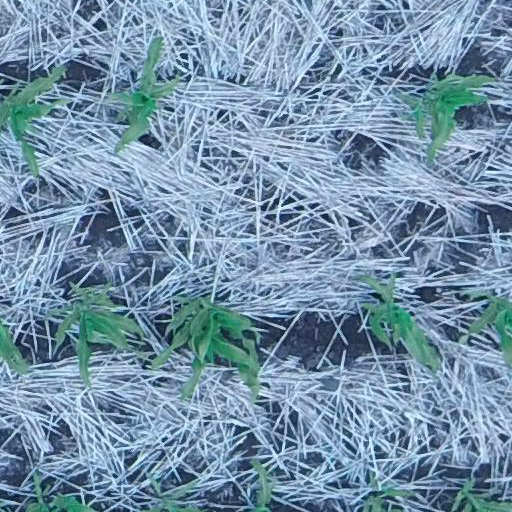planta: (147, 292, 264, 402), (41, 277, 148, 388), (392, 69, 500, 171), (350, 271, 443, 376), (107, 33, 184, 154), (455, 286, 511, 368)
